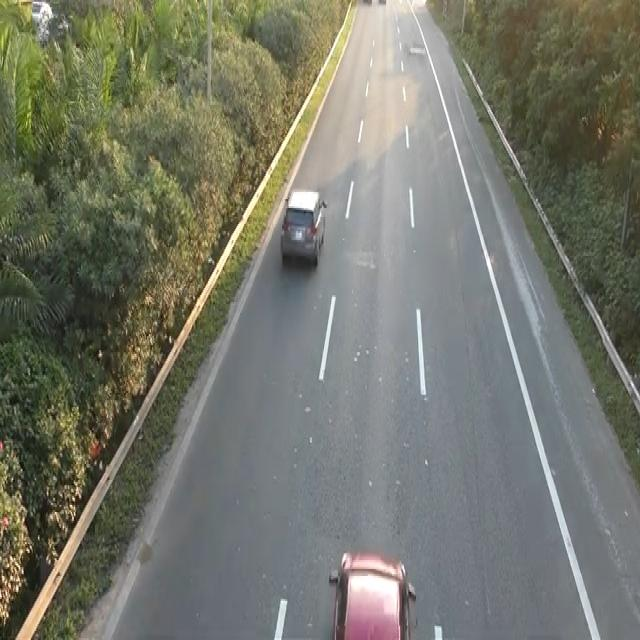bus: (326, 546, 418, 636)
car: (278, 183, 328, 269)
